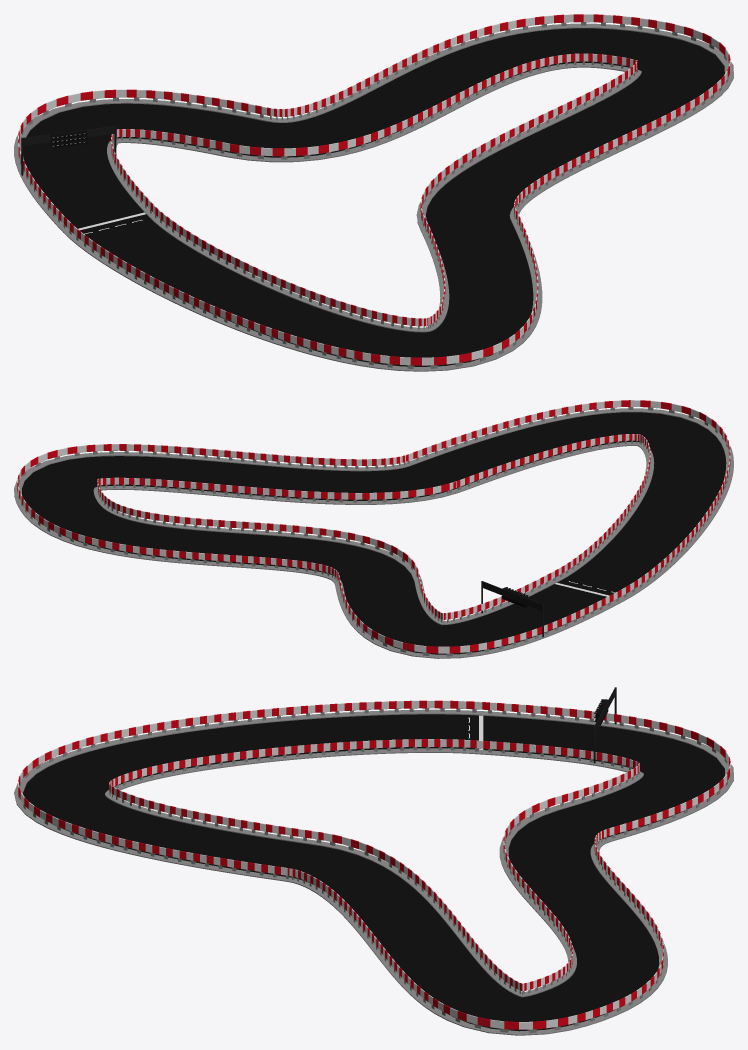
The model's file is test_track.glb.
The picture shows the model from 3 angles, top to bottom: view 1: azimuth 30°, elevation 25°; view 2: azimuth 150°, elevation 25°; view 3: azimuth 270°, elevation 25°; orthographic projection. The views are drawn at different scales.
Parts seen in each view (by area): view 1: Cube, Cylinder; view 2: Cube, Cylinder; view 3: Cube.
Boxes of the visible parts, box(x1,y1,x2,y2) form: Cube: box(14, 14, 733, 371); Cylinder: box(21, 125, 116, 175); Cube: box(14, 400, 733, 658); Cylinder: box(481, 581, 543, 637); Cube: box(14, 700, 733, 1035).
Bounding box in the file's own units: 164 × 8.91 × 154.
